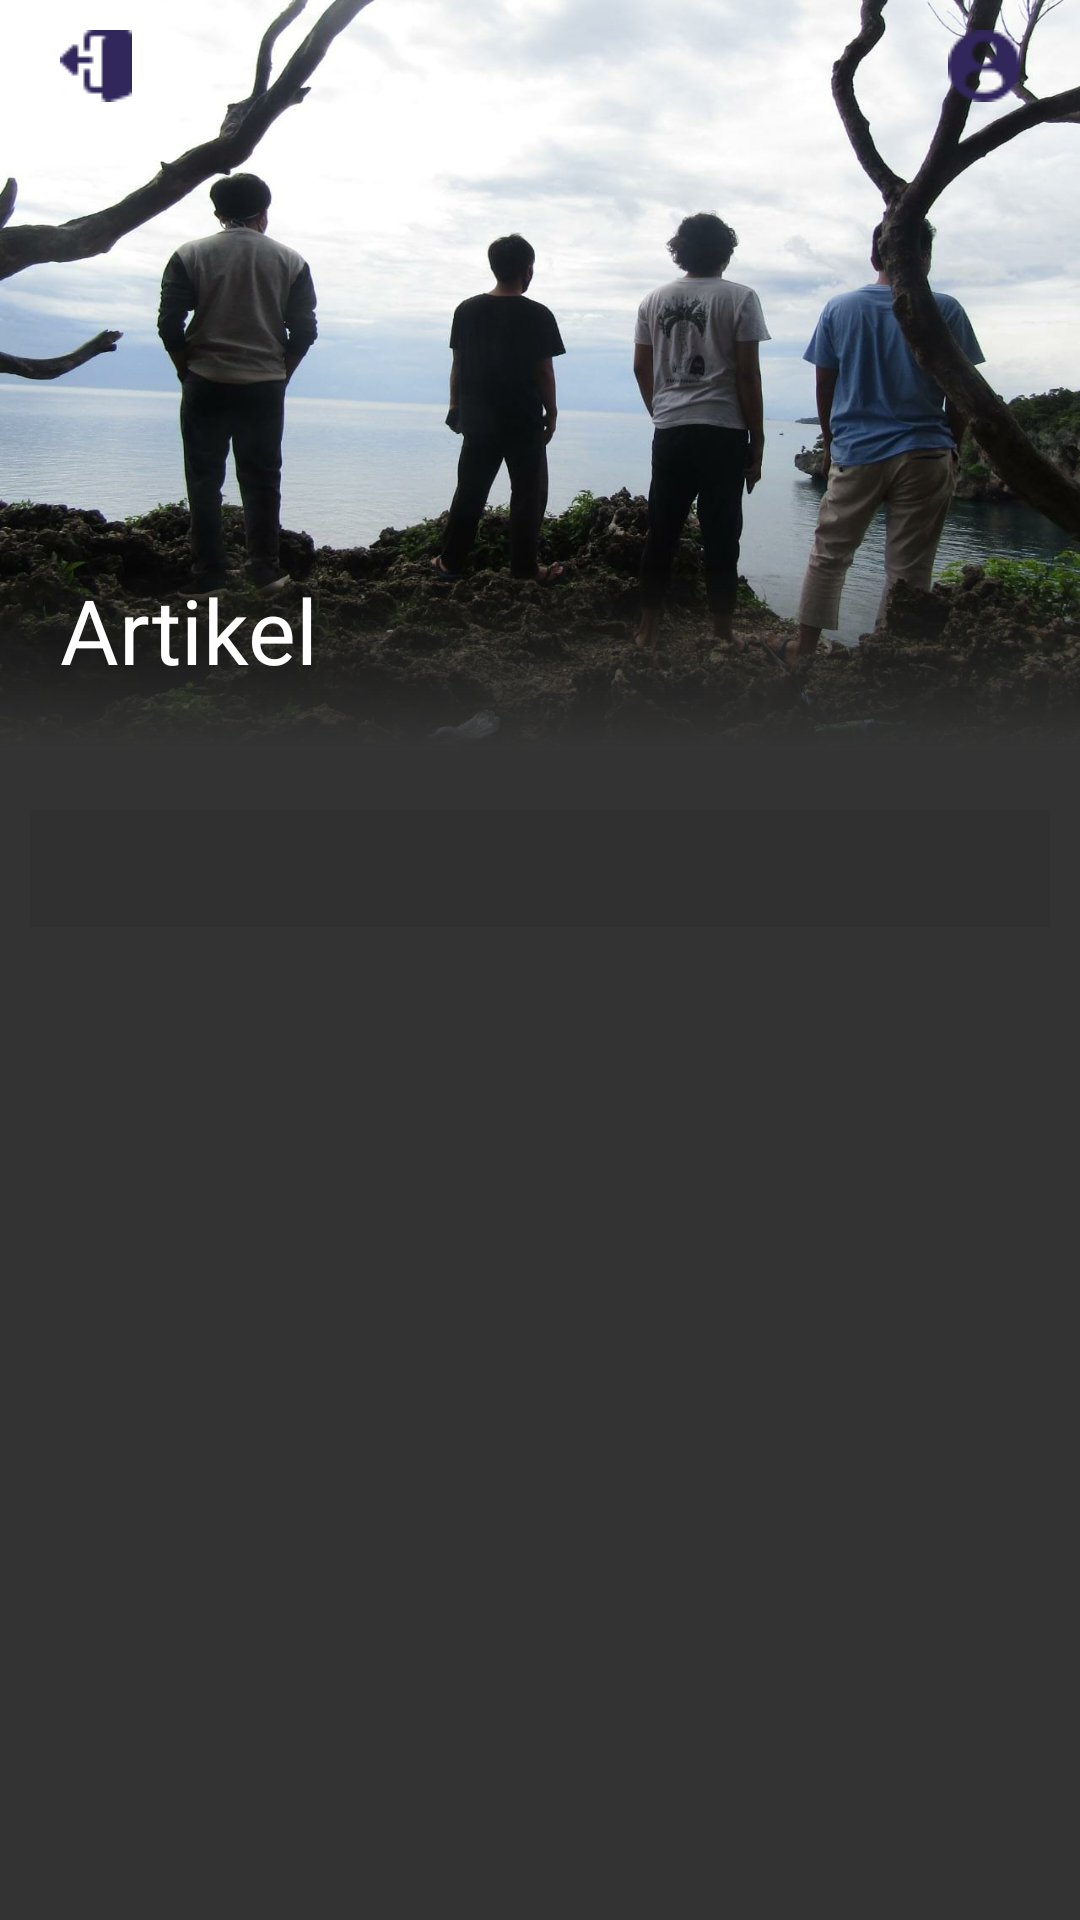

Point at icon controls on the screen. Image size 1080px×1920px, points as (x,y).
profileuser: (984,66)
